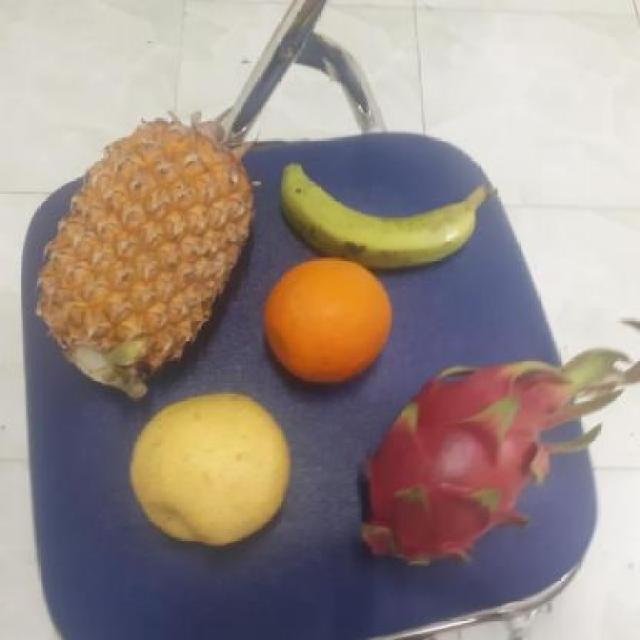banana: (271, 141, 477, 270)
dragon fruit: (347, 362, 558, 564)
oren: (256, 258, 392, 385)
pear: (121, 390, 293, 548)
pineapple: (35, 124, 248, 396)
